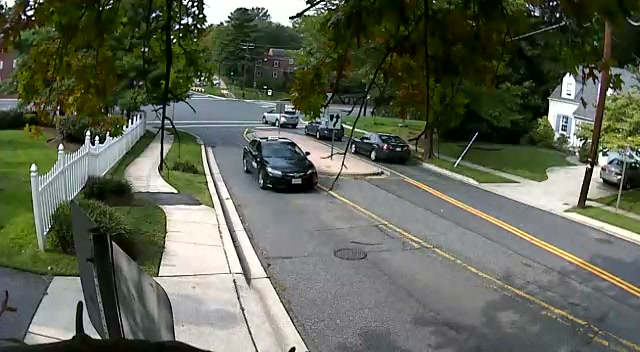car: (254, 137, 319, 192), (242, 129, 294, 173), (352, 132, 411, 164), (599, 150, 640, 189), (304, 114, 345, 141), (262, 104, 299, 129)
truck: (262, 101, 299, 128)
